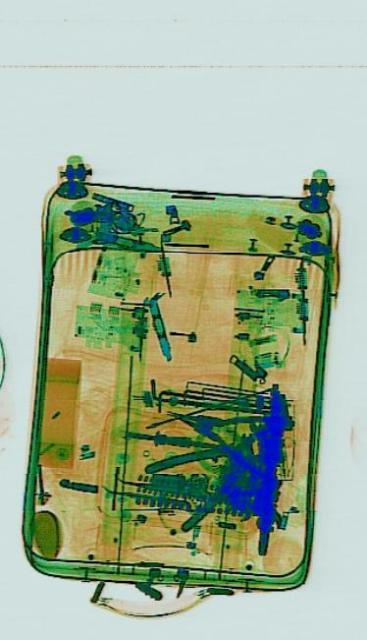Pliers: (160, 379, 271, 481)
